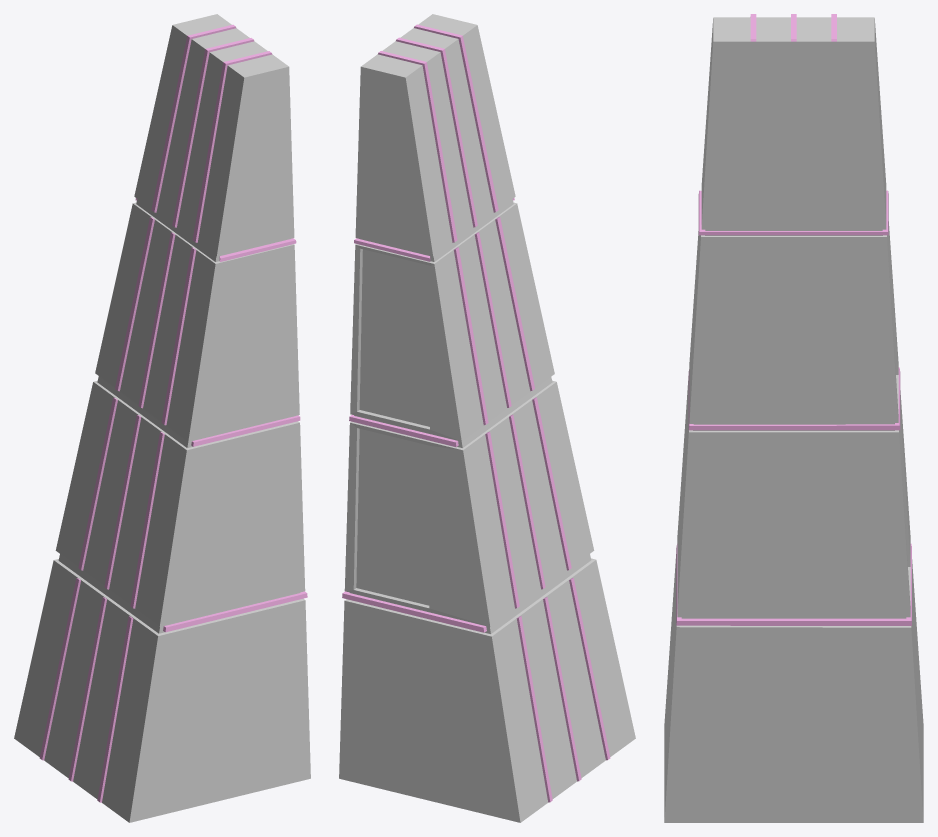
The model's file is SM_Environment_Buildings_Mid_04.fbx.
3 views of the same model, side by side, from view 1: azimuth 30°, elevation 25°; view 2: azimuth 150°, elevation 25°; view 3: azimuth 270°, elevation 25° (orthographic). The views are drawn at different scales.
Parts seen in each view (by area): view 1: SM_Environment_Buildings_Mid_04, Lights; view 2: SM_Environment_Buildings_Mid_04, Lights; view 3: SM_Environment_Buildings_Mid_04, Lights.
Boxes of the visible parts, x1,y1,x2,y2 form: SM_Environment_Buildings_Mid_04: (14, 14, 310, 822); Lights: (39, 24, 307, 802); SM_Environment_Buildings_Mid_04: (339, 14, 635, 822); Lights: (342, 24, 610, 802); SM_Environment_Buildings_Mid_04: (664, 17, 923, 822); Lights: (676, 14, 911, 625).
Size of the model in its own units: 12.83 by 46.13 by 13.82.
